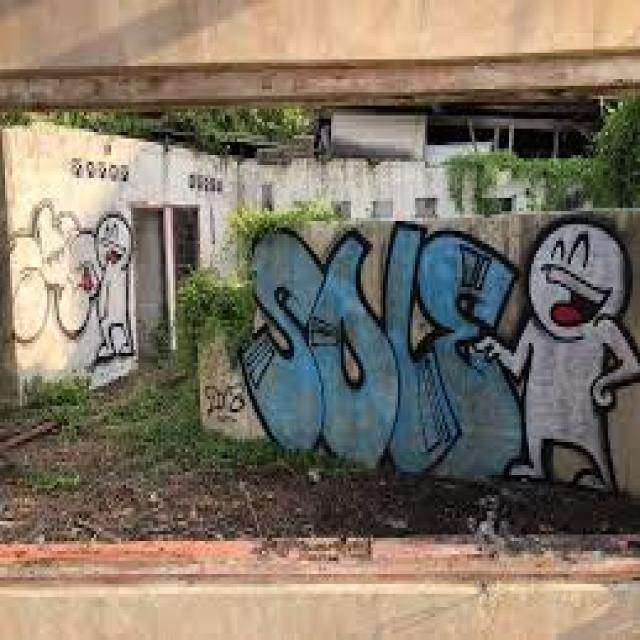-: (237, 221, 640, 492), (10, 198, 134, 366), (202, 383, 244, 418)
